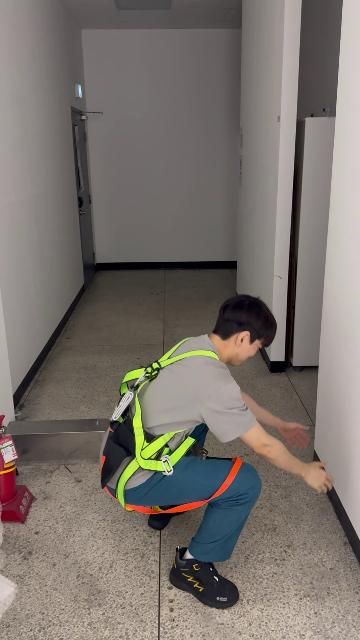helmet_not_worn: (216, 296, 278, 363)
shoe_worn: (168, 547, 239, 609), (147, 508, 178, 530)
vest_worn: (100, 339, 229, 510)
